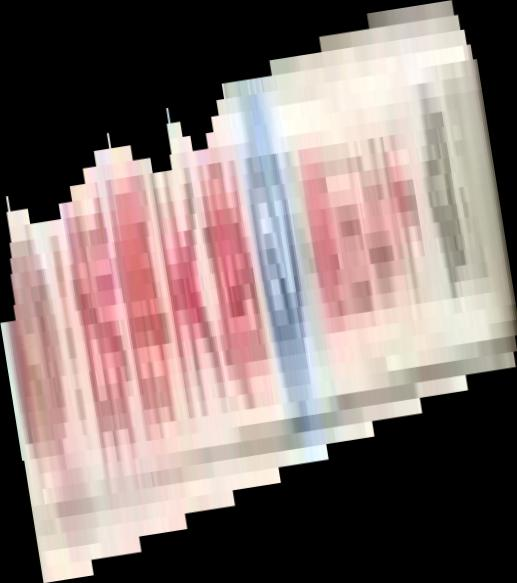flat: (1, 1, 517, 583)
